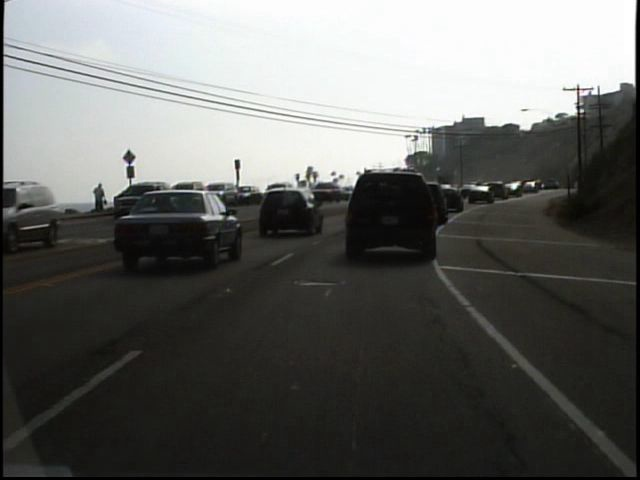person: (91, 178, 109, 218)
